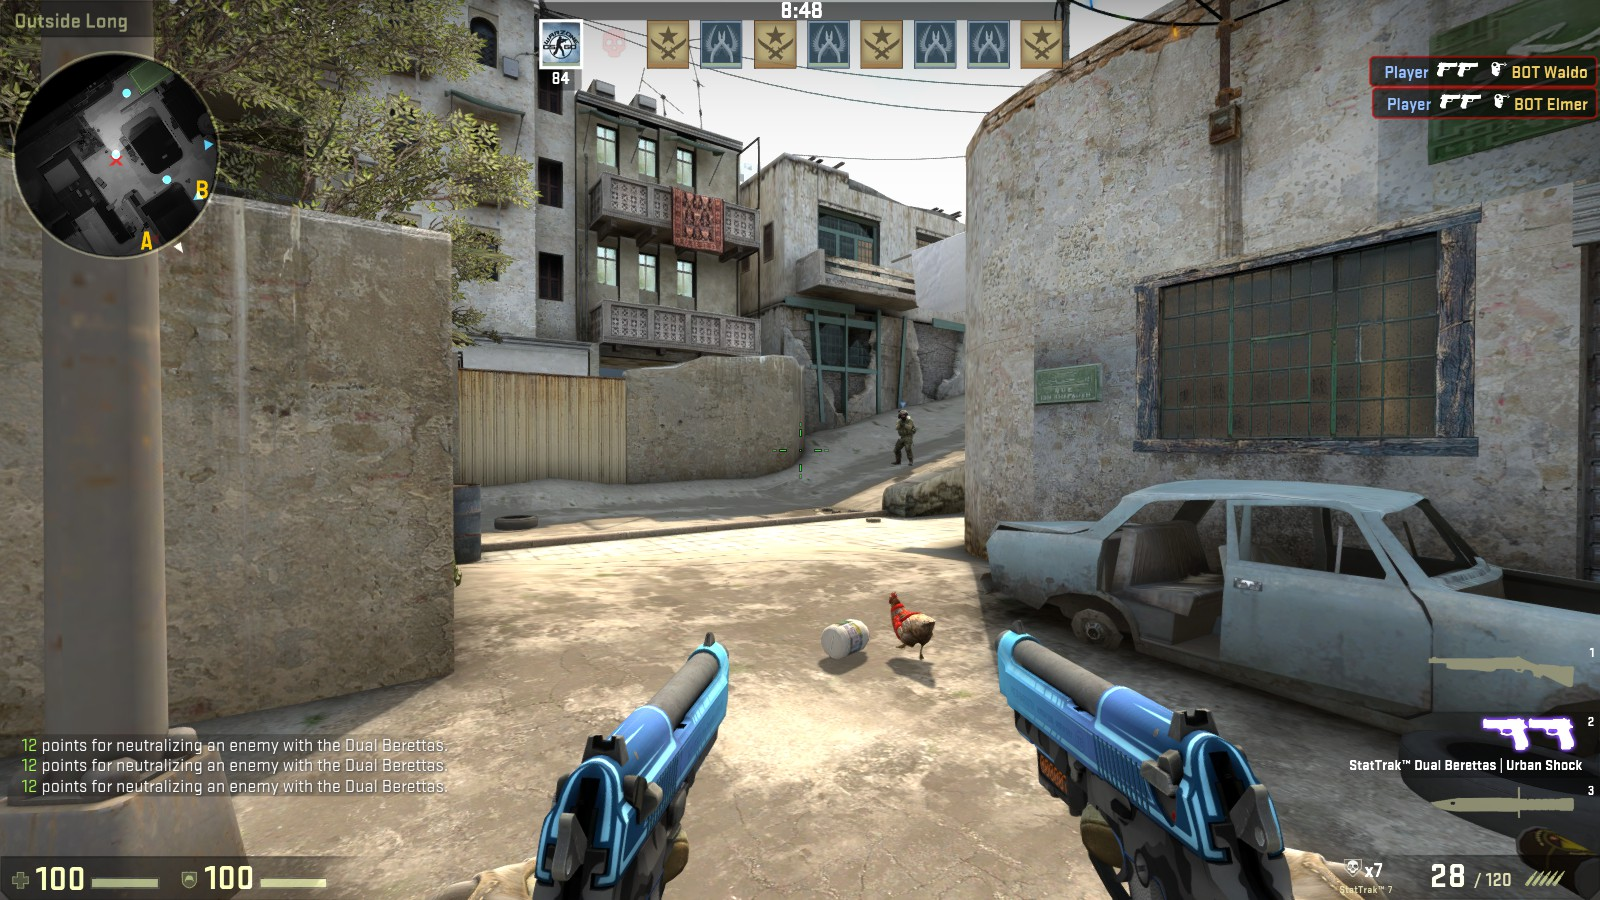c: (890, 407, 916, 465)
ch: (897, 409, 909, 421)
